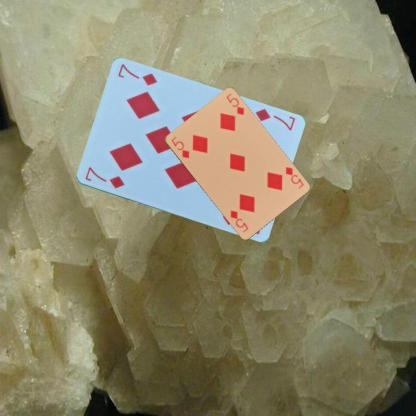5d: (282, 164, 304, 190), (169, 134, 190, 160)
7d: (252, 106, 296, 132), (82, 164, 125, 190)
